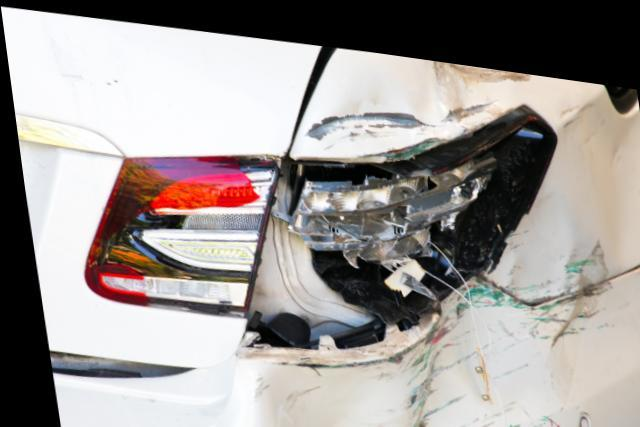dent: (247, 262, 629, 427), (485, 77, 640, 285), (304, 46, 513, 151)
lamp broken: (79, 89, 556, 343)
